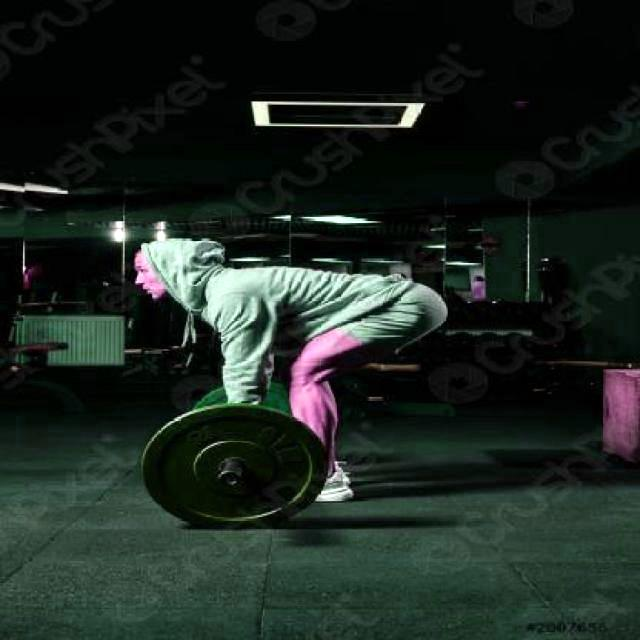barbell: (133, 397, 335, 534)
